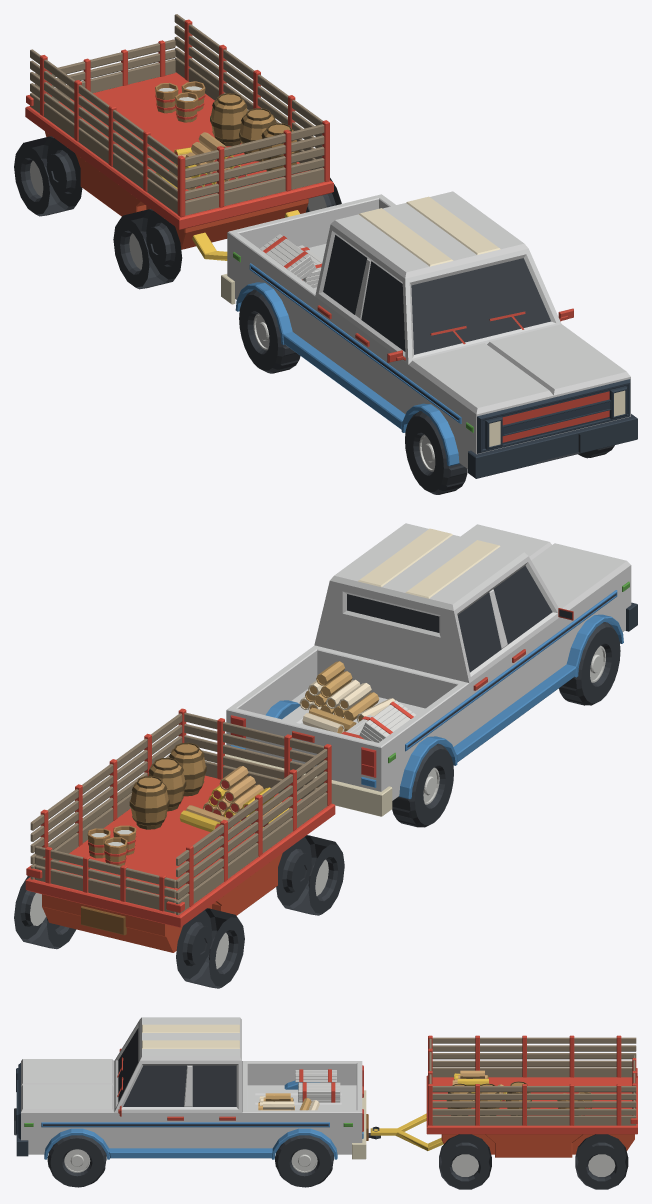
Rendered from car_a03.gltf.
3 views of the same model, one above another, from view 1: azimuth 30°, elevation 25°; view 2: azimuth 150°, elevation 25°; view 3: azimuth 270°, elevation 25° (orthographic). The views are drawn at different scales.
Visible parts, largest first — view 1: body, wheel_23, wheel_19, wheel_11, wheel_5, wheel_9, wheel_3; view 2: body, wheel_23, wheel_19, wheel_5, wheel_11, wheel_3, wheel_9; view 3: body, wheel_17, wheel_21, wheel_0, wheel_6, wheel_1, wheel_7, wheel_12, wheel_14.
Part boxes in pixels (<box>): body: <box>20,14,637,494</box>; wheel_23: <box>239,295,277,370</box>; wheel_19: <box>405,416,443,491</box>; wheel_11: <box>113,218,149,287</box>; wheel_5: <box>14,145,49,214</box>; wheel_9: <box>146,211,182,279</box>; wheel_3: <box>46,138,82,206</box>; body: <box>20,523,637,988</box>; wheel_23: <box>415,749,453,824</box>; wheel_19: <box>581,627,620,703</box>; wheel_5: <box>209,917,244,986</box>; wheel_11: <box>308,844,344,913</box>; wheel_3: <box>176,910,211,978</box>; wheel_9: <box>276,837,311,905</box>; body: <box>14,1017,637,1189</box>; wheel_17: <box>50,1138,103,1186</box>; wheel_21: <box>278,1138,331,1186</box>; wheel_0: <box>577,1145,626,1189</box>; wheel_6: <box>440,1145,489,1189</box>; wheel_1: <box>577,1134,626,1161</box>; wheel_7: <box>440,1134,489,1161</box>; wheel_12: <box>588,1154,615,1176</box>; wheel_14: <box>451,1154,478,1176</box>.
Size of the model in its own units: 2.51 by 2.23 by 10.2.
Materials: 1 (1 with a texture image).
